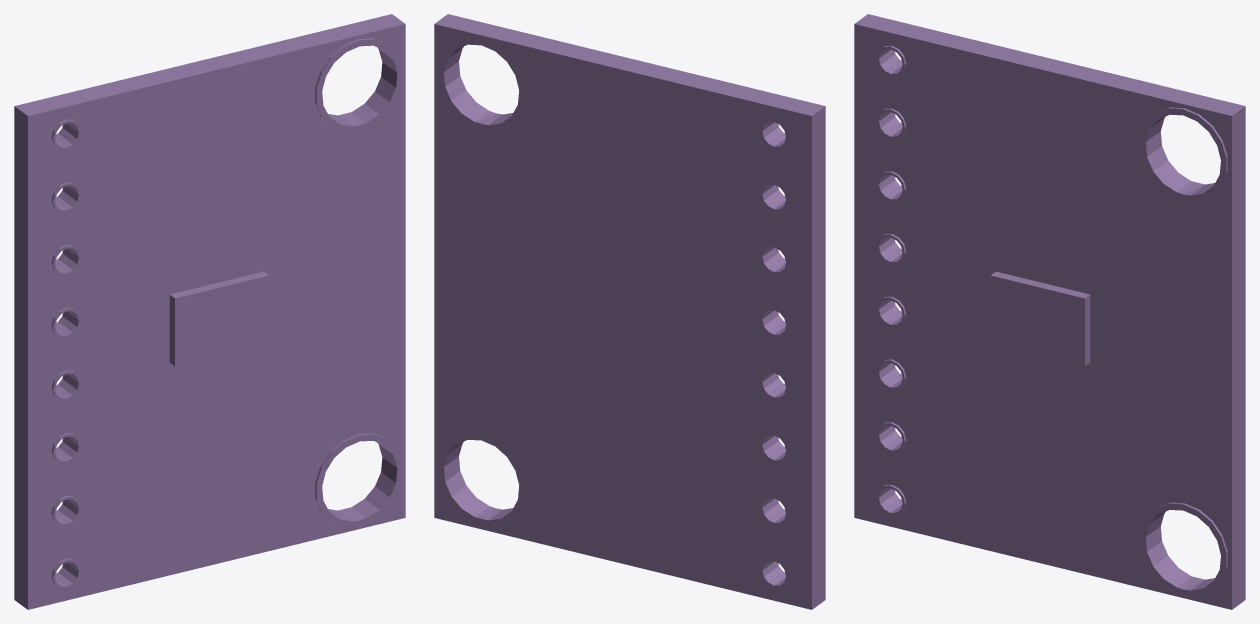
The model's file is imu_front_link.glb.
3 renders of one model, left to right at view 1: azimuth 30°, elevation 25°; view 2: azimuth 150°, elevation 25°; view 3: azimuth 330°, elevation 25°, orthographic.
Size of the model in its own units: 0.016 by 0.02 by 0.0014.
